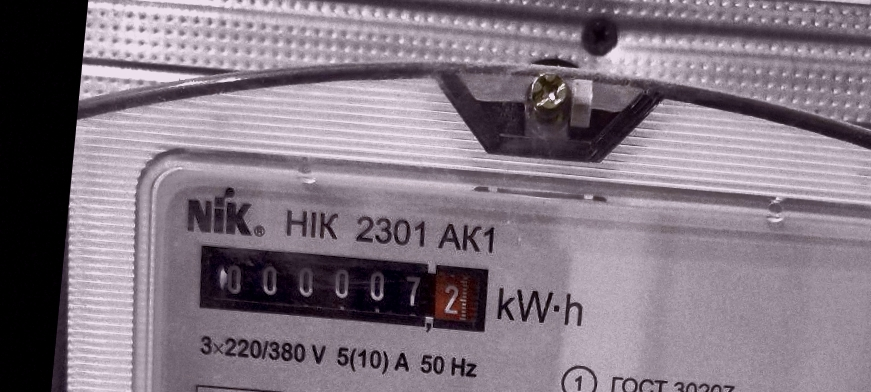0: (292, 262, 318, 302), (221, 260, 246, 297), (364, 266, 388, 304), (330, 265, 353, 304), (258, 261, 281, 298)
2: (439, 281, 463, 318)
7: (400, 271, 424, 311)
screen: (189, 234, 499, 342)
